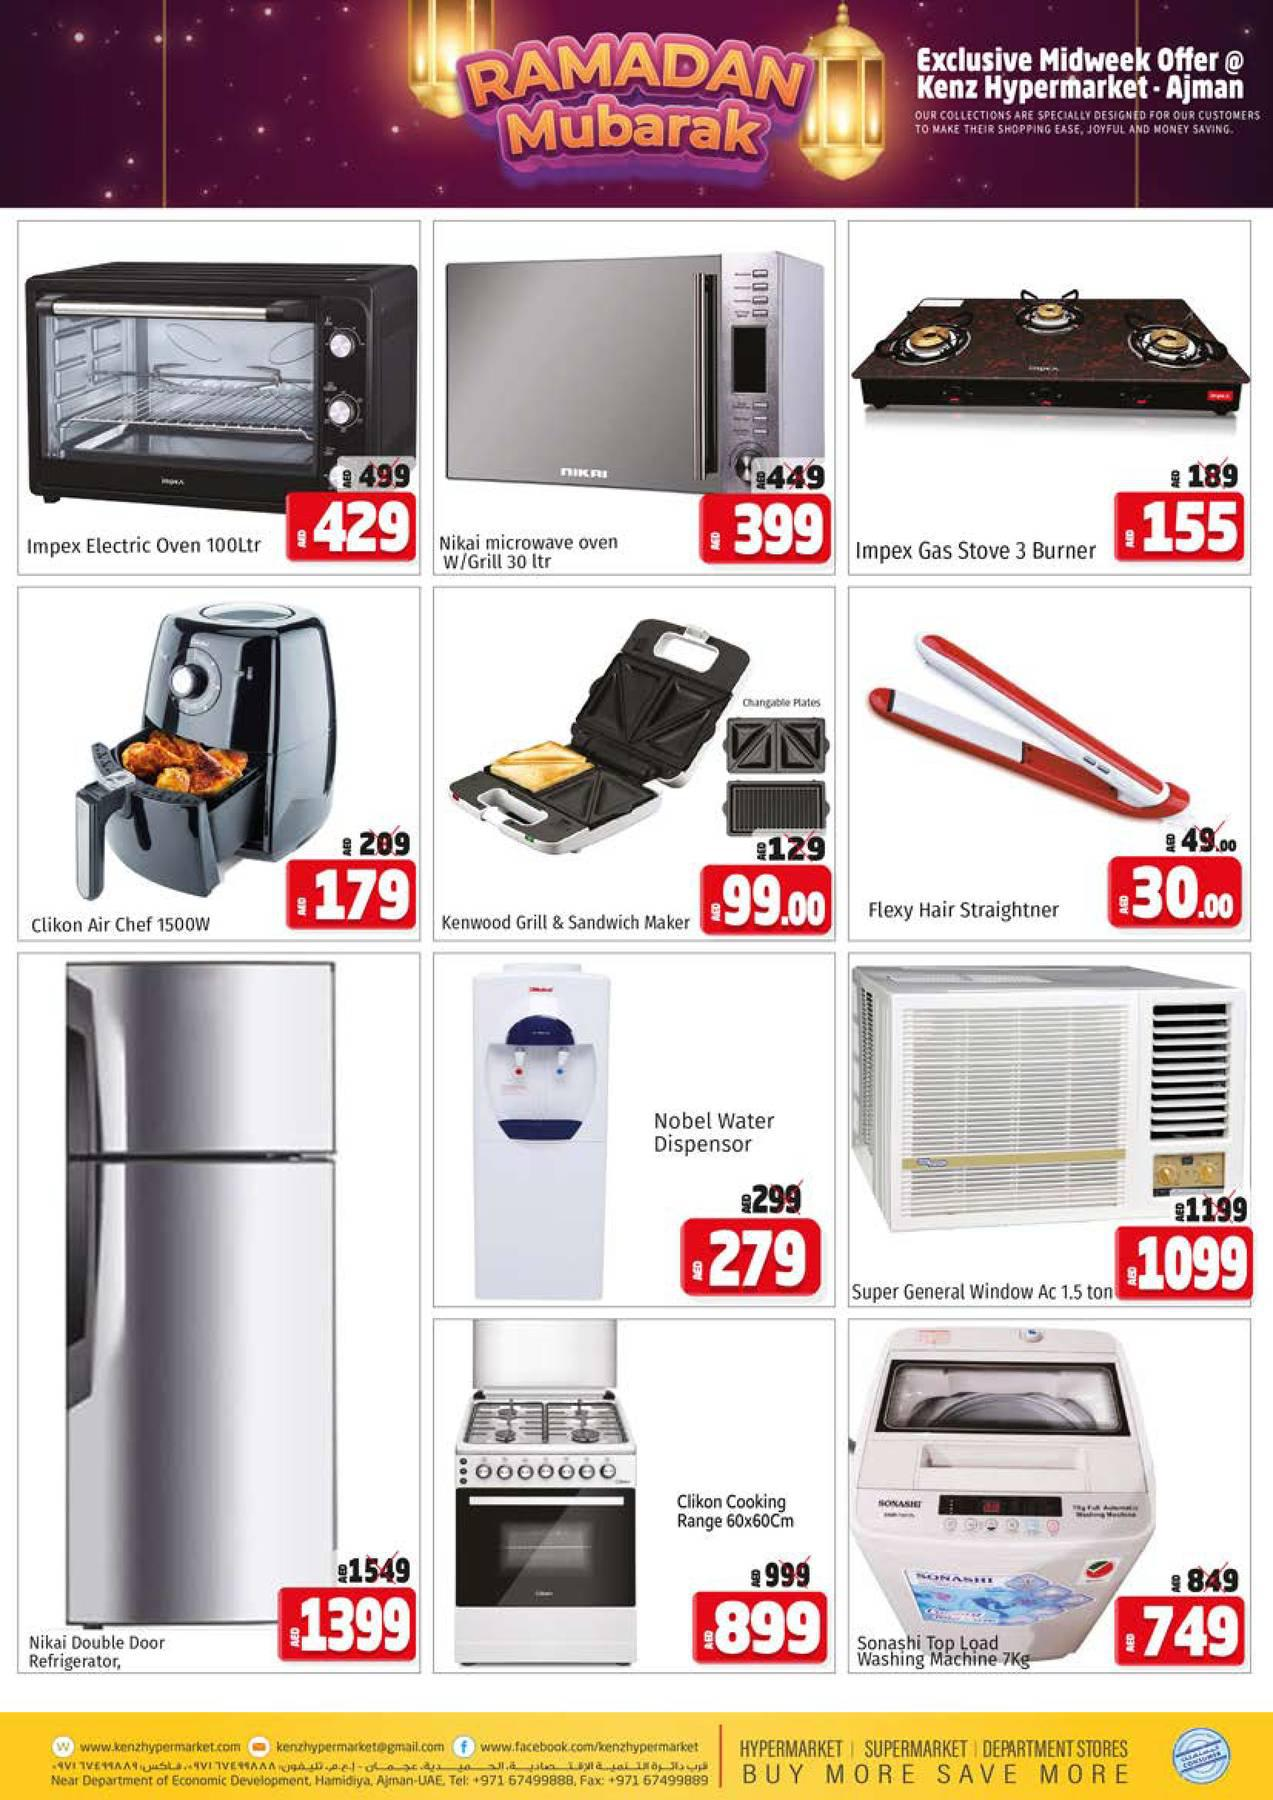text: (849, 523, 1108, 576), (19, 519, 277, 572), (434, 519, 650, 580), (845, 1266, 1119, 1310), (842, 1622, 1050, 1677), (860, 881, 1077, 934), (433, 903, 698, 945), (665, 1474, 813, 1547), (21, 898, 231, 943)
